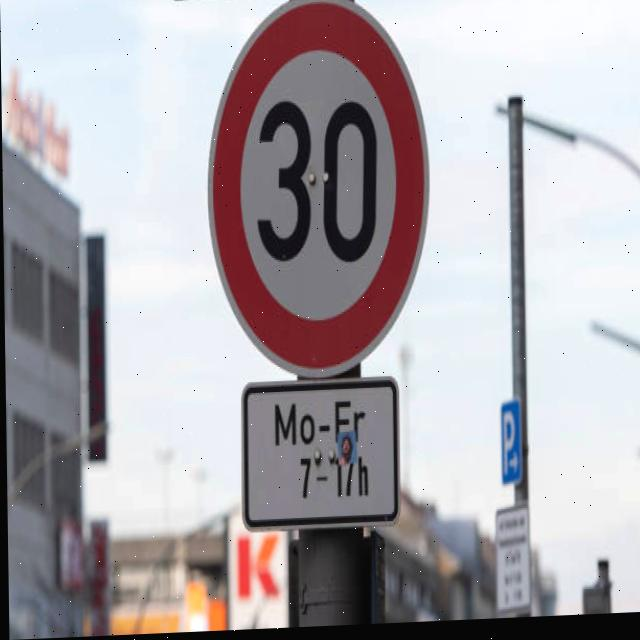Speed limit 30: (203, 1, 435, 385)
